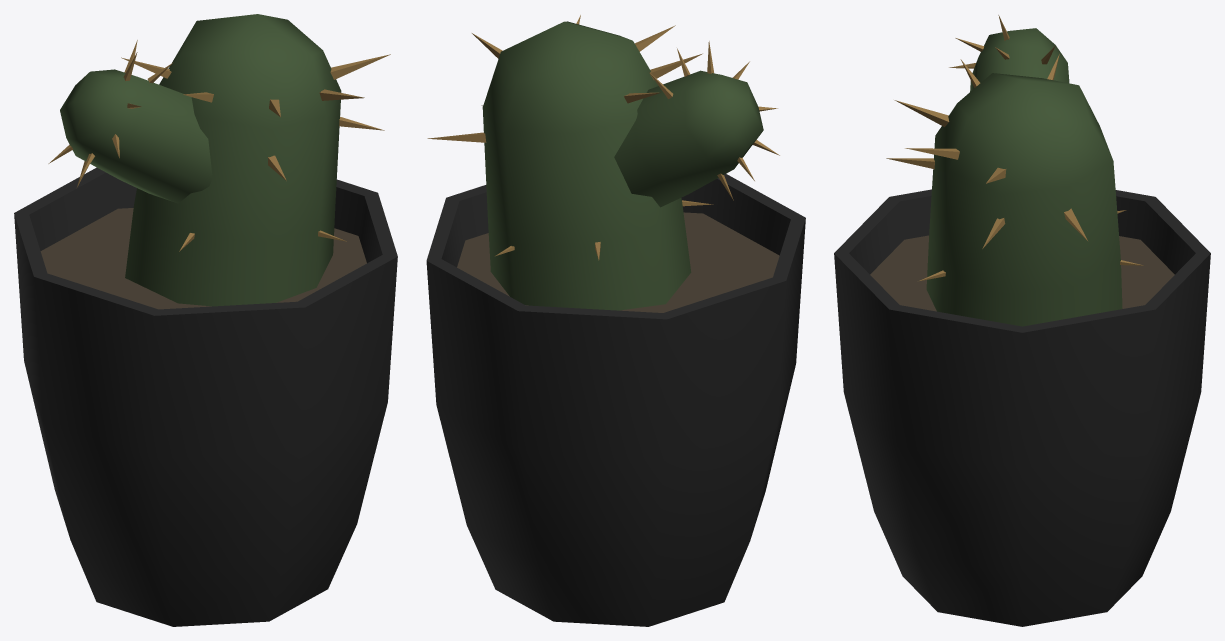
File: houseplant_b.fbx
3 views of the same model, side by side, from view 1: azimuth 30°, elevation 25°; view 2: azimuth 150°, elevation 25°; view 3: azimuth 270°, elevation 25° (orthographic). The views are drawn at different scales.
Visible parts, largest first — view 1: Houseplant_2; view 2: Houseplant_2; view 3: Houseplant_2.
Part boxes in pixels (x1,y1,x2,y2): Houseplant_2: [14, 14, 397, 626]; Houseplant_2: [426, 15, 805, 626]; Houseplant_2: [834, 15, 1210, 626].
Bounding box in the file's own units: 0.651 × 1 × 0.651.
